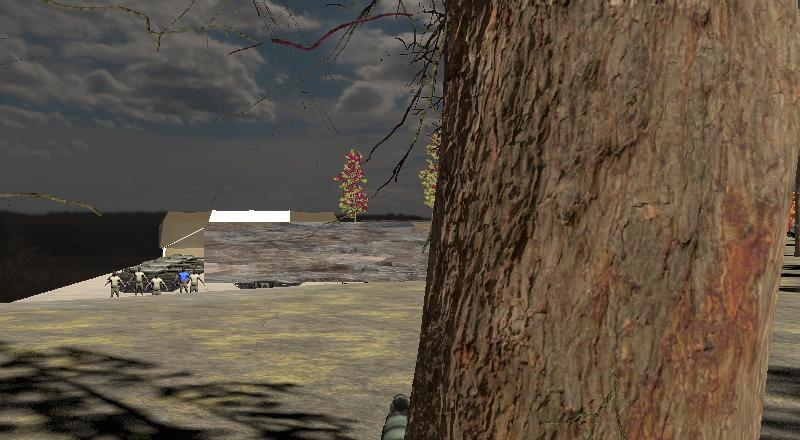Human: (103, 270, 125, 302), (174, 267, 193, 297), (131, 267, 149, 295), (152, 273, 166, 295)
Tank: (125, 260, 205, 294)
